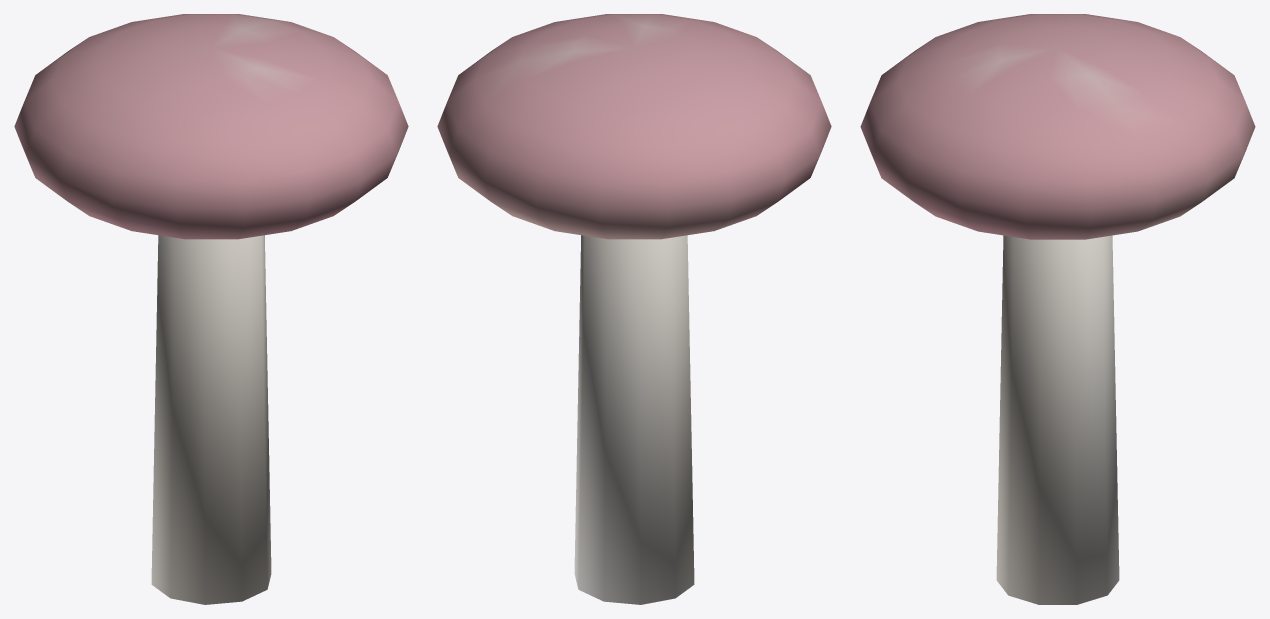
Rendered from mushroom_tall.glb.
3 views of the same model, side by side, from view 1: azimuth 30°, elevation 25°; view 2: azimuth 150°, elevation 25°; view 3: azimuth 270°, elevation 25° (orthographic).
Parts seen in each view (by area): view 1: Cap, Stem; view 2: Cap, Stem; view 3: Cap, Stem.
Boxes of the visible parts, box(x1,y1,x2,y2) form: Cap: box(14, 14, 408, 239); Stem: box(151, 235, 271, 604); Cap: box(437, 14, 831, 239); Stem: box(574, 235, 694, 604); Cap: box(860, 14, 1255, 239); Stem: box(996, 235, 1119, 604).
Size of the model in its own units: 0.4432 by 0.669 by 0.45.
